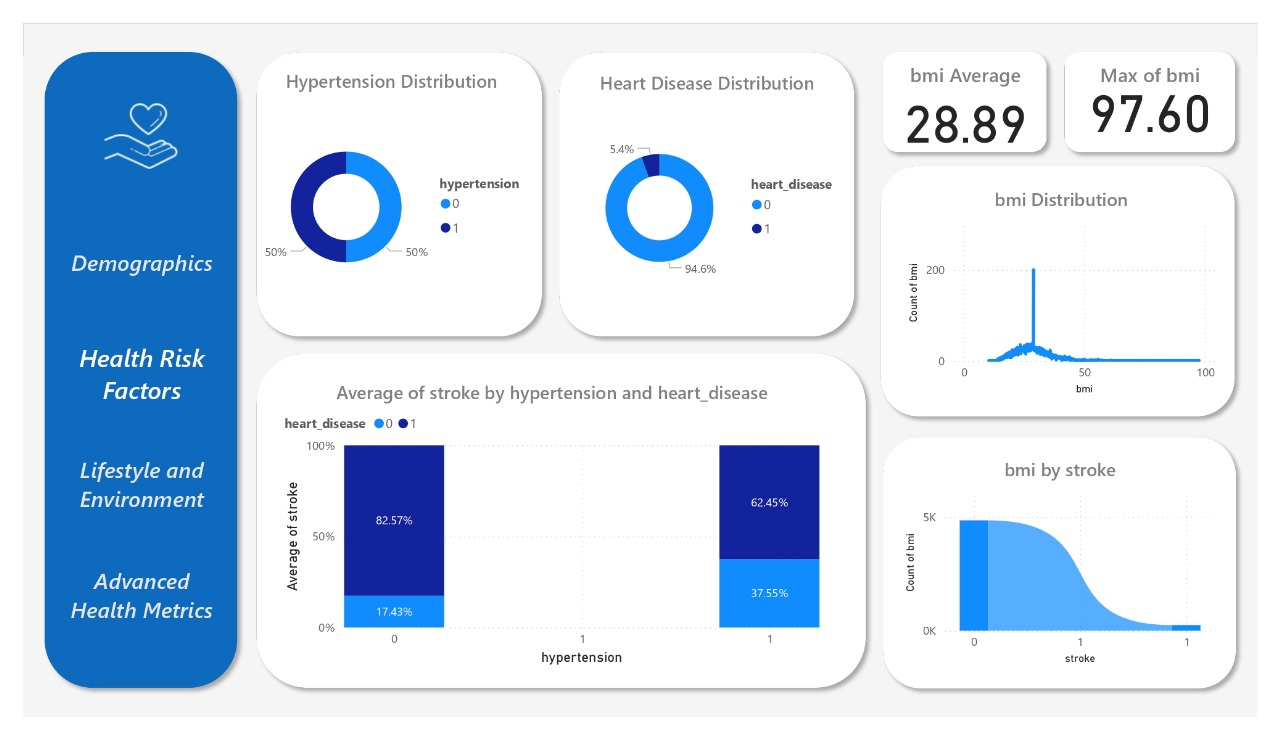

This screenshot's page, from the dashboard's own definition file:
{"tool":"powerbi","page":{"name":"Health Risk Factors","canvas":[1280,720],"ordinal":1},"visuals":[{"type":"shape","box":[12.9,21.4,218.6,677.1],"z":0},{"type":"pageNavigator","box":[37.1,210,171.4,420],"z":1000},{"type":"image","box":[64.3,62.9,115.7,107.1],"z":2000},{"type":"shape","box":[1071.4,21.4,194.3,121.4],"z":3000},{"type":"shape","box":[882.9,21.4,188.6,121.4],"z":4000},{"type":"card","title":"bmi Average","fields":{"Values":["Avg(healthcare-dataset-stroke-data.bmi)"]},"box":[898.6,38.6,157.1,92.9],"z":5000},{"type":"card","title":"Max of bmi","fields":{"Values":["Max(healthcare-dataset-stroke-data.bmi)"]},"box":[1088.6,38.6,160,92.9],"z":6000},{"type":"shape","box":[882.9,420,384.3,278.6],"z":7000},{"type":"shape","box":[232.9,334.3,650,364.3],"z":8000},{"type":"hundredPercentStackedColumnChart","title":"Average of stroke by hypertension and heart_disease","fields":{"Series":["healthcare-dataset-stroke-data.heart_disease"],"Category":["healthcare-dataset-stroke-data.hypertension"],"Y":["Avg(healthcare-dataset-stroke-data.stroke)"]},"box":[265.7,370,565.7,301.4],"z":9000},{"type":"ribbonChart","title":"bmi by stroke","fields":{"Y":["CountNonNull(healthcare-dataset-stroke-data.bmi)"],"Category":["healthcare-dataset-stroke-data.stroke"]},"box":[910,450,331.4,220],"z":10000},{"type":"shape","box":[881.4,138.6,384.3,278.6],"z":11000},{"type":"lineChart","title":" bmi Distribution","fields":{"Category":["healthcare-dataset-stroke-data.bmi"],"Y":["CountNonNull(healthcare-dataset-stroke-data.bmi)"]},"box":[912.9,170,328.6,220],"z":12000},{"type":"shape","box":[547.1,21.4,324.3,312.9],"z":13000},{"type":"shape","box":[232.9,21.4,314.3,312.9],"z":14000},{"type":"donutChart","title":"Hypertension Distribution","fields":{"Category":["healthcare-dataset-stroke-data.hypertension"],"Y":["Count(healthcare-dataset-stroke-data.hypertension)"]},"box":[232.9,47.1,298.6,261.4],"z":15000},{"type":"donutChart","title":"Heart Disease Distribution","fields":{"Y":["CountNonNull(healthcare-dataset-stroke-data.heart_disease)"],"Category":["healthcare-dataset-stroke-data.heart_disease"]},"box":[560,48.6,298.6,260],"z":16000}]}

Visuals, with their boxes in screenshot pixels (x1, y1, x2, y2), scaled from the page's 1280x720 canvas onto the 1280x740 screenshot:
shape: detection(13, 22, 232, 718)
pageNavigator: detection(37, 216, 208, 647)
image: detection(64, 65, 180, 175)
shape: detection(1071, 22, 1266, 147)
shape: detection(883, 22, 1072, 147)
"bmi Average" card: detection(899, 40, 1056, 135)
"Max of bmi" card: detection(1089, 40, 1249, 135)
shape: detection(883, 432, 1267, 718)
shape: detection(233, 344, 883, 718)
"Average of stroke by hypertension and heart_disease" hundredPercentStackedColumnChart: detection(266, 380, 831, 690)
"bmi by stroke" ribbonChart: detection(910, 462, 1241, 689)
shape: detection(881, 142, 1266, 429)
" bmi Distribution" lineChart: detection(913, 175, 1242, 401)
shape: detection(547, 22, 871, 344)
shape: detection(233, 22, 547, 344)
"Hypertension Distribution" donutChart: detection(233, 48, 532, 317)
"Heart Disease Distribution" donutChart: detection(560, 50, 859, 317)
